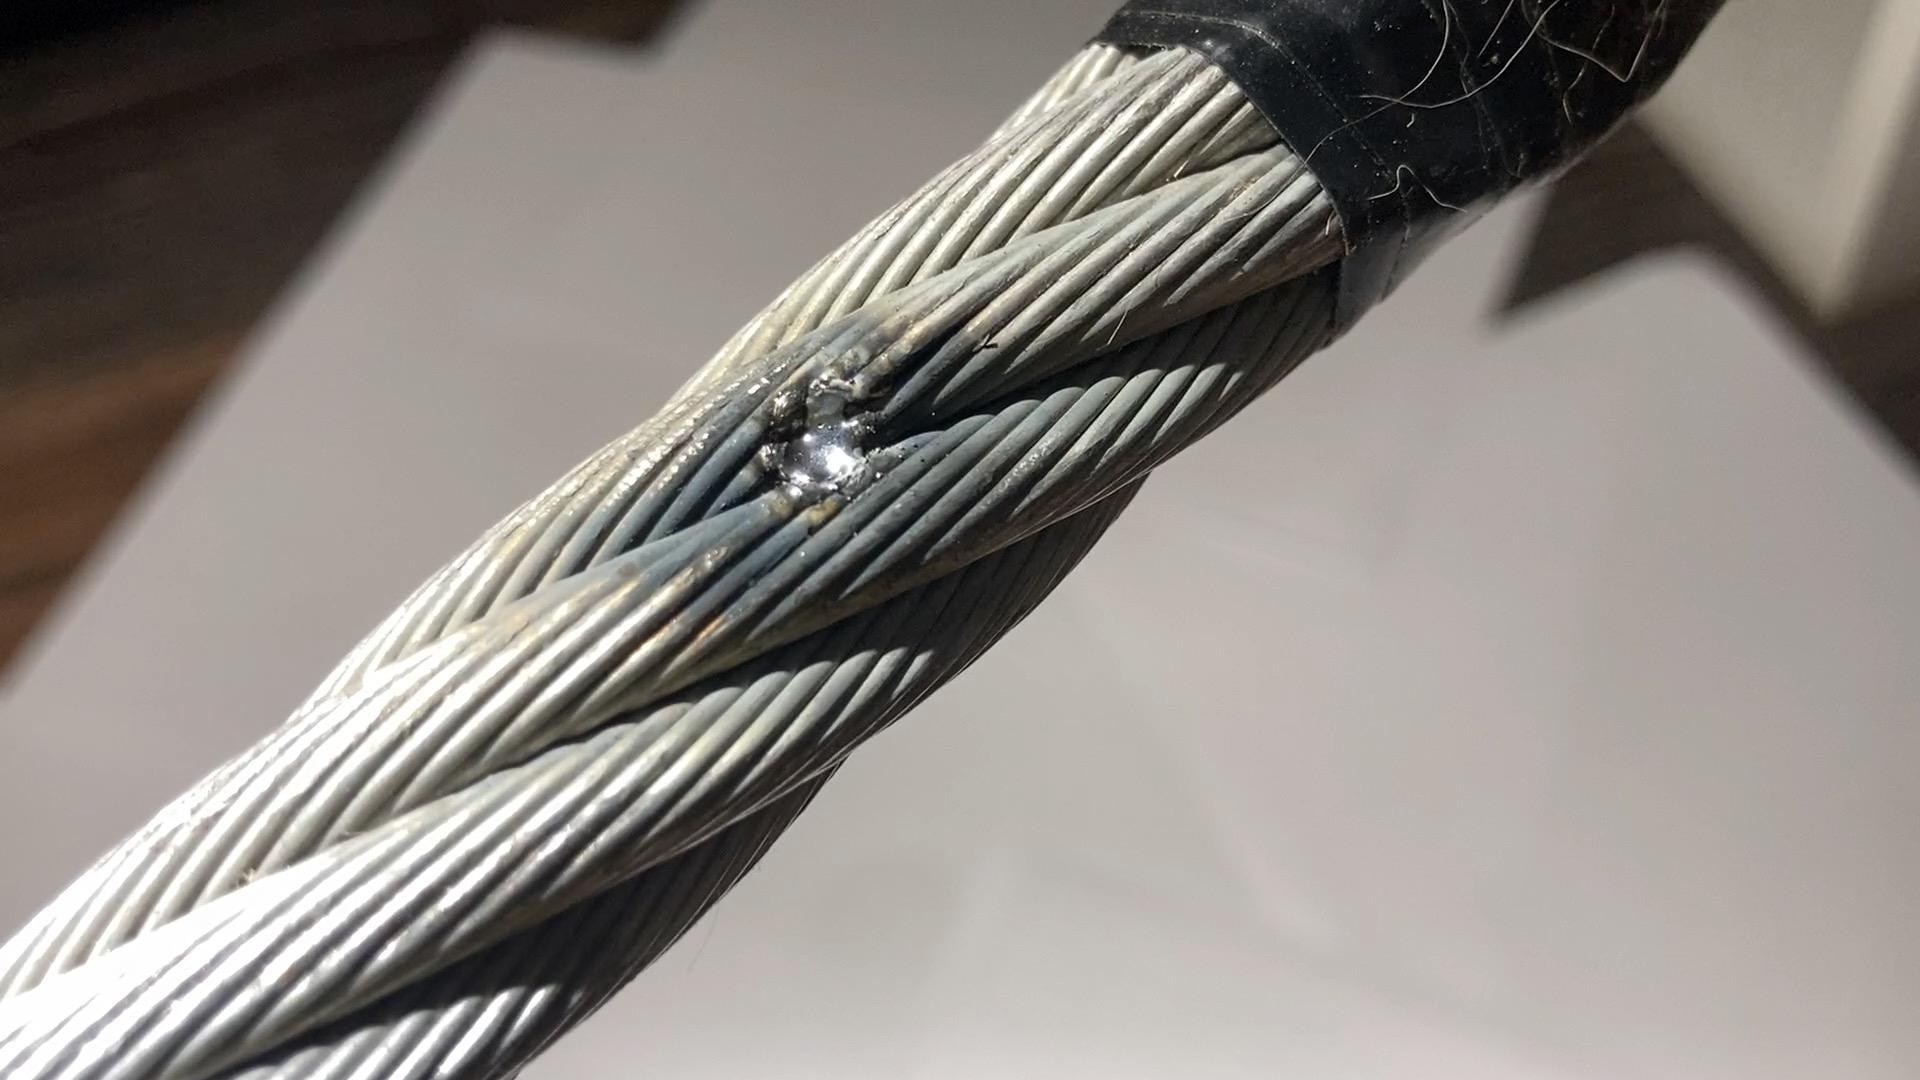thunderbolt: (725, 316, 898, 493)
